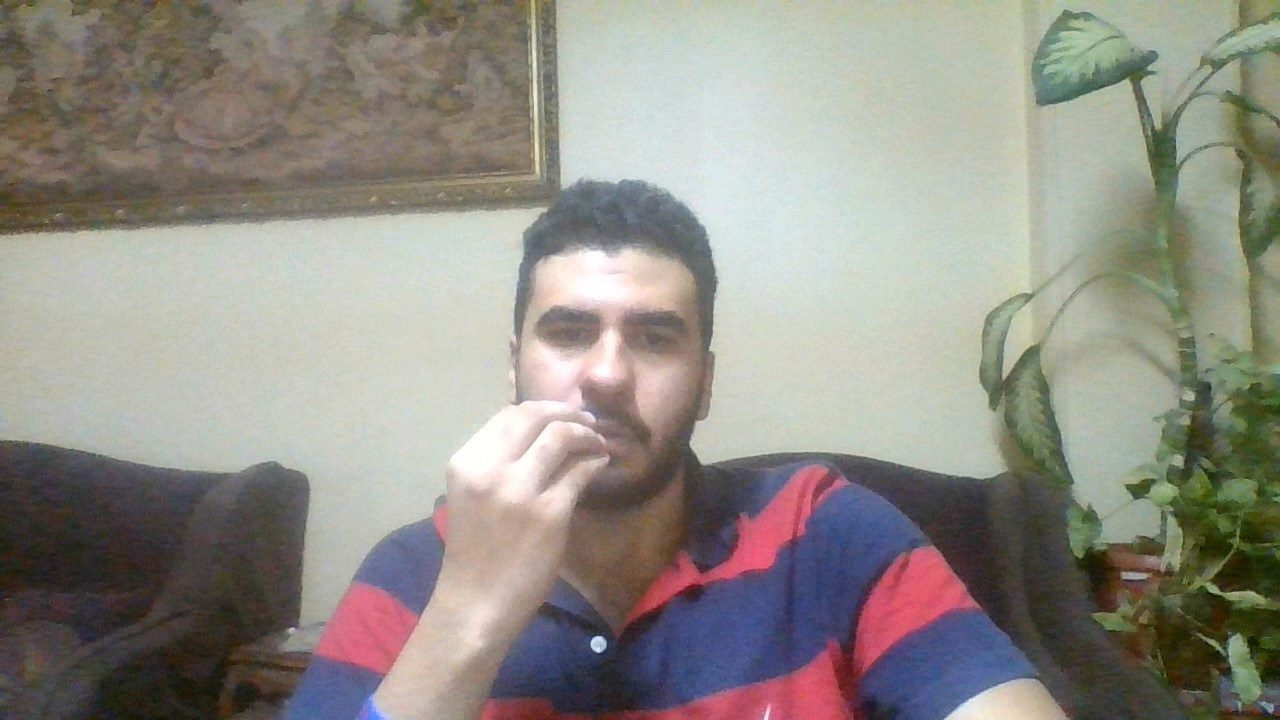eat: (428, 395, 610, 587)
